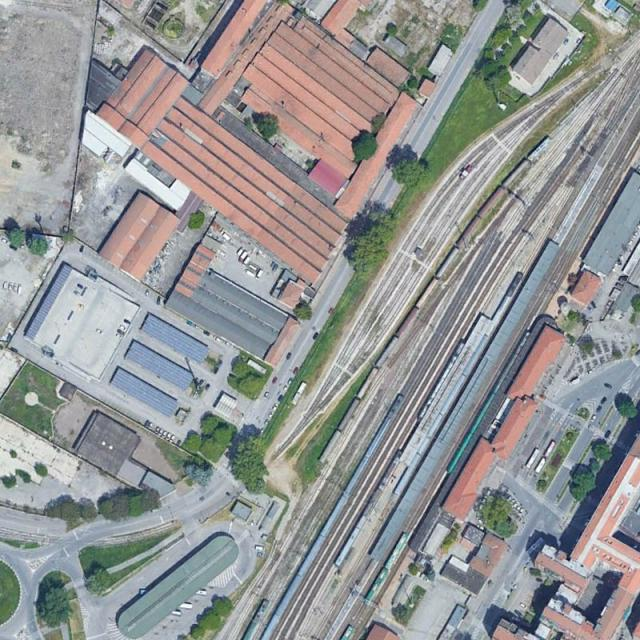vehicle: (525, 449, 539, 470), (544, 441, 556, 457), (534, 458, 546, 474), (179, 602, 193, 610), (238, 251, 248, 262), (222, 232, 231, 242), (255, 270, 263, 281), (569, 378, 580, 386), (242, 257, 250, 267), (244, 269, 254, 277), (585, 368, 594, 376), (603, 430, 612, 438), (118, 324, 127, 332), (212, 334, 221, 342), (270, 376, 278, 385), (217, 250, 226, 258), (596, 404, 603, 414), (236, 247, 244, 255), (170, 611, 182, 616), (194, 590, 206, 595), (18, 284, 23, 296), (10, 243, 18, 250), (257, 551, 265, 558), (486, 488, 493, 496), (590, 414, 596, 423), (603, 383, 612, 389), (202, 330, 211, 336), (272, 402, 278, 411), (256, 545, 265, 551), (124, 318, 131, 325), (268, 410, 274, 418), (264, 418, 270, 426), (217, 359, 223, 367), (519, 603, 527, 609), (511, 616, 519, 622), (95, 330, 104, 335), (145, 420, 150, 429), (154, 426, 159, 435), (264, 390, 269, 399), (288, 377, 293, 386), (157, 297, 162, 306), (14, 282, 18, 293), (518, 507, 524, 514), (601, 397, 606, 405), (148, 422, 153, 430), (166, 433, 171, 441), (286, 352, 291, 360), (313, 332, 318, 340), (1, 238, 9, 243), (9, 282, 14, 290), (278, 394, 283, 402), (145, 288, 149, 297), (114, 334, 123, 338), (170, 434, 174, 443), (477, 517, 483, 523), (3, 282, 8, 289), (250, 519, 255, 526), (205, 383, 210, 390), (273, 265, 278, 272), (477, 525, 484, 530), (478, 503, 483, 510), (570, 342, 575, 349), (158, 429, 162, 437), (162, 430, 166, 438), (294, 366, 298, 374), (214, 367, 218, 375), (607, 301, 611, 308), (482, 498, 487, 503)
